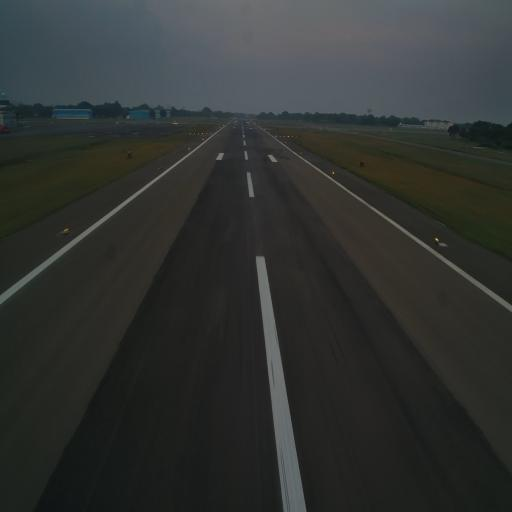off: (156, 166, 162, 171)
on: (62, 224, 71, 235), (434, 235, 441, 244), (331, 169, 336, 177)
